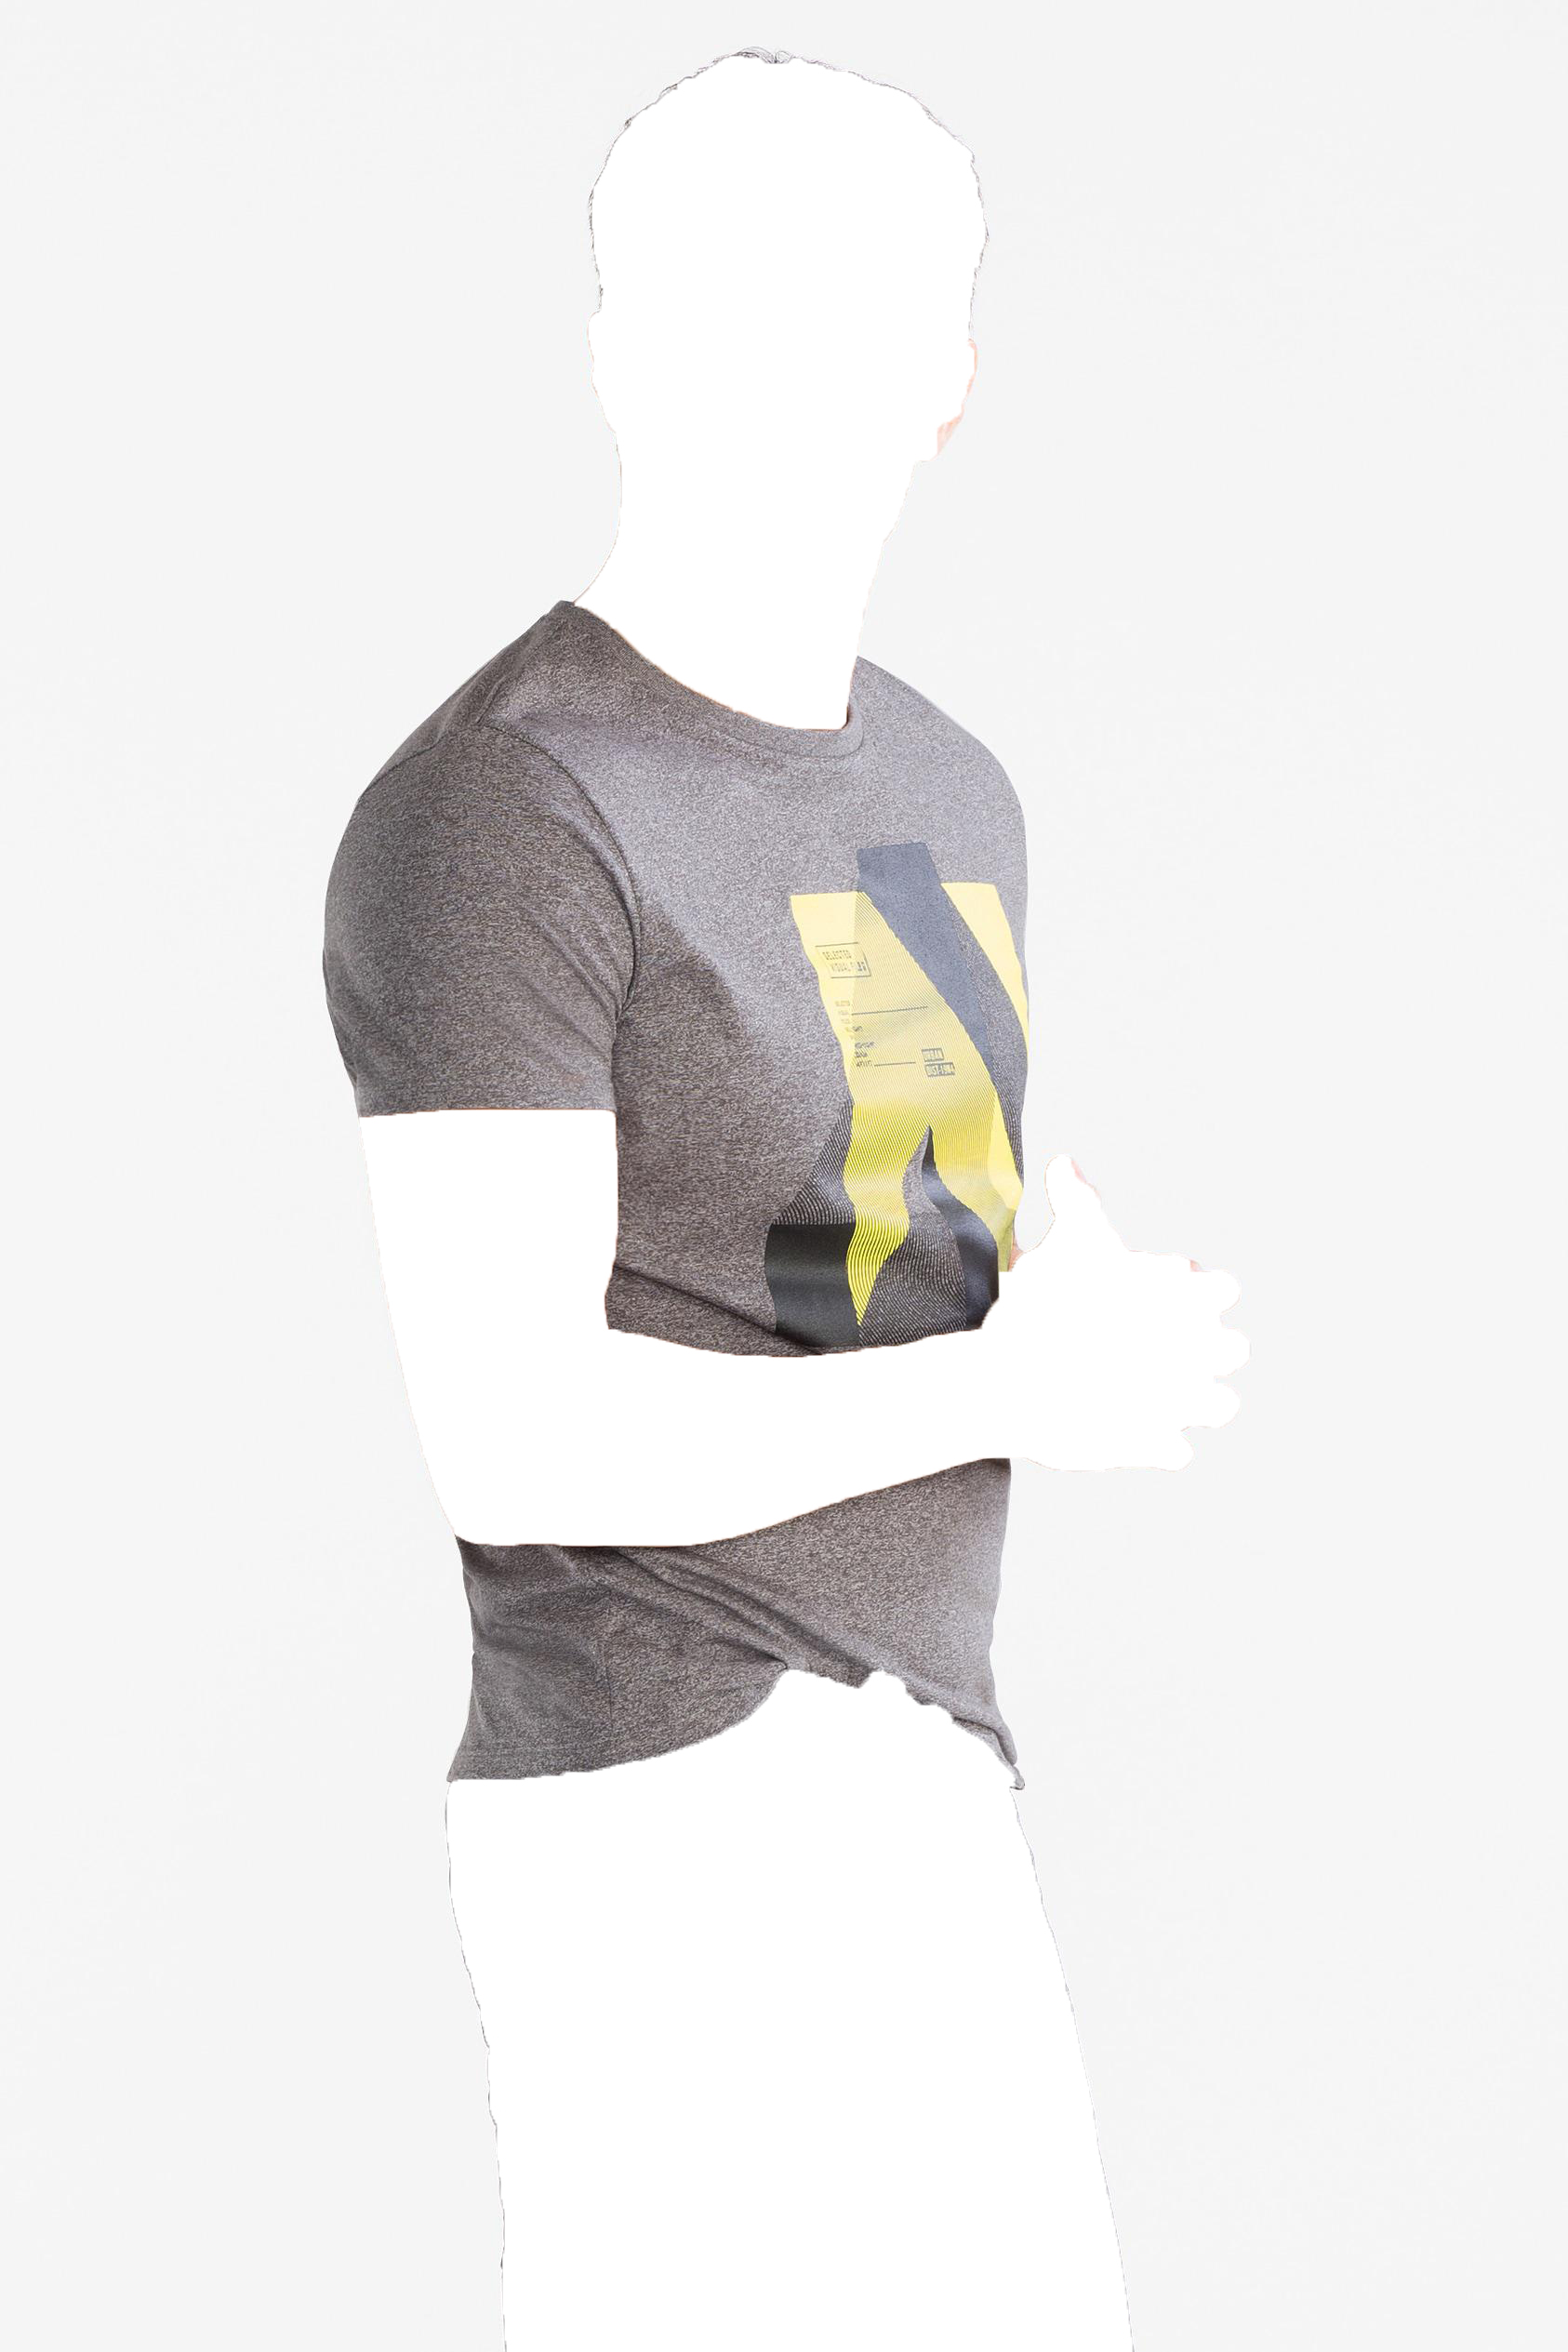teeshirt: (271, 604, 1122, 1813)
